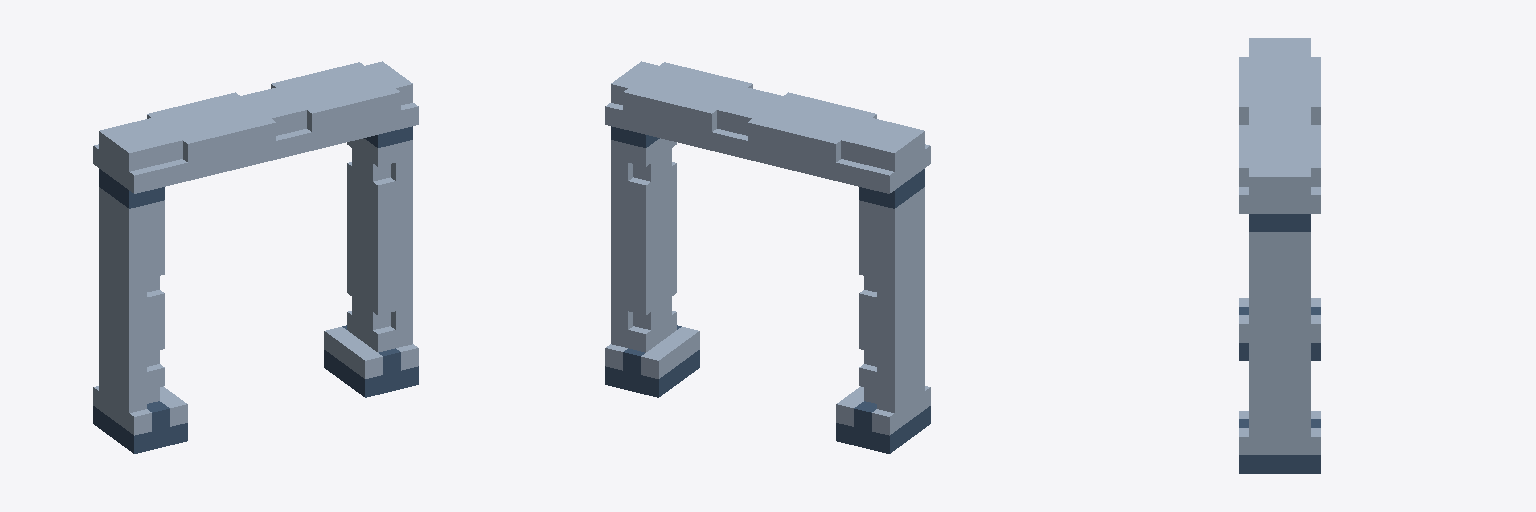
Rendered from door.obj.
3 renders of one model, left to right at view 1: azimuth 30°, elevation 25°; view 2: azimuth 150°, elevation 25°; view 3: azimuth 270°, elevation 25°, orthographic.
Size of the model in its own units: 16 by 16 by 4.